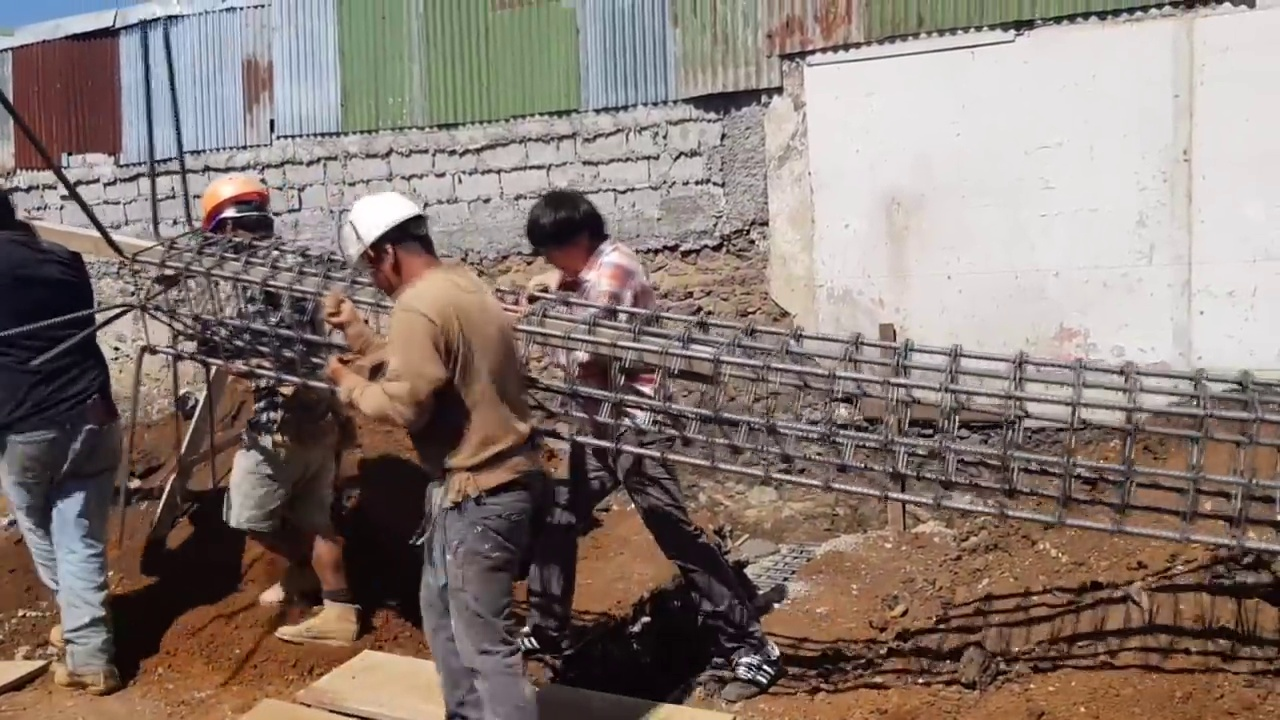helmet: (338, 190, 428, 272), (198, 173, 271, 231)
helmet-off: (525, 191, 612, 280)
helmet-on: (338, 183, 449, 301), (199, 168, 278, 242)
person: (516, 192, 786, 702), (323, 182, 539, 719), (197, 182, 371, 630), (0, 189, 125, 718)
